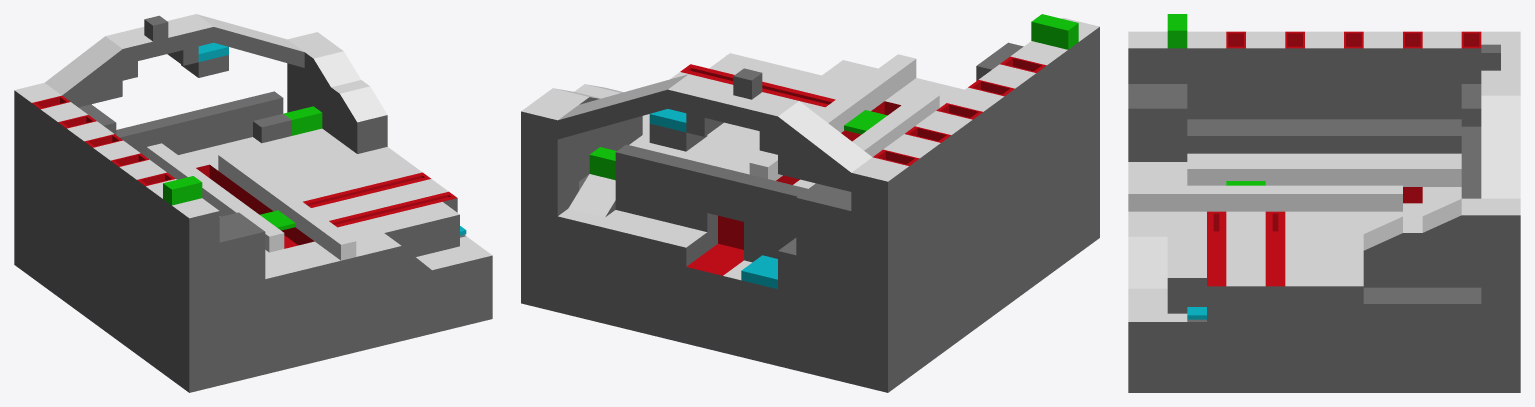
Rendered from Nivel1_v3.fbx.
3 views of the same model, side by side, from view 1: azimuth 30°, elevation 25°; view 2: azimuth 150°, elevation 25°; view 3: azimuth 270°, elevation 25° (orthographic). The views are drawn at different scales.
Visible parts, largest first — view 1: Base, Pared final, Modulo movil 1, Pivotes electricos 2, Inicio, Pared2, Pivotes electricos 1, Modulo movil 2, Pared1, Puerta 2, Pared3, Puerta 1 (+2 smaller); view 2: Base, Pared final, Pared2, Horno, Pivotes electricos 2, Pared1, Modulo movil 2, Modulo movil 1, Pivotes electricos 1, Puerta 2, Boton 2, Puerta 1 (+3 smaller); view 3: Base, Pared final, Cinta transportadora, Modulo movil 1, Pivotes electricos 2, Pivotes electricos 1, Inicio, Modulo movil 2, Horno, Pared1, Puerta 2, Pared2.
Boxes of the visible parts, x1=… form: Base: x1=14, y1=14, x2=492, y2=392; Pared final: x1=14, y1=29, x2=219, y2=297; Modulo movil 1: x1=304, y1=45, x2=387, y2=153; Pivotes electricos 2: x1=218, y1=151, x2=356, y2=260; Inicio: x1=204, y1=212, x2=265, y2=293; Pared2: x1=184, y1=91, x2=283, y2=151; Pivotes electricos 1: x1=146, y1=143, x2=284, y2=252; Modulo movil 2: x1=136, y1=15, x2=228, y2=77; Pared1: x1=116, y1=113, x2=192, y2=156; Puerta 2: x1=163, y1=176, x2=202, y2=205; Pared3: x1=253, y1=114, x2=291, y2=143; Puerta 1: x1=283, y1=106, x2=322, y2=135; Base: x1=521, y1=53, x2=1099, y2=392; Pared final: x1=741, y1=17, x2=1099, y2=277; Pared2: x1=615, y1=144, x2=735, y2=217; Horno: x1=796, y1=183, x2=869, y2=272; Pivotes electricos 2: x1=749, y1=54, x2=916, y2=180; Pared1: x1=725, y1=171, x2=807, y2=234; Modulo movil 2: x1=649, y1=68, x2=762, y2=151; Modulo movil 1: x1=542, y1=84, x2=642, y2=181; Pivotes electricos 1: x1=793, y1=91, x2=939, y2=188; Puerta 2: x1=1031, y1=14, x2=1078, y2=49; Boton 2: x1=741, y1=255, x2=777, y2=289; Puerta 1: x1=589, y1=147, x2=616, y2=180; Base: x1=1128, y1=79, x2=1520, y2=392; Pared final: x1=1128, y1=31, x2=1520, y2=119; Cinta transportadora: x1=1187, y1=119, x2=1461, y2=153; Modulo movil 1: x1=1363, y1=198, x2=1481, y2=286; Pivotes electricos 2: x1=1128, y1=185, x2=1402, y2=211; Pivotes electricos 1: x1=1187, y1=161, x2=1461, y2=186; Inicio: x1=1128, y1=84, x2=1187, y2=161; Modulo movil 2: x1=1481, y1=44, x2=1520, y2=78; Horno: x1=1461, y1=84, x2=1481, y2=126; Pared1: x1=1461, y1=126, x2=1481, y2=167; Puerta 2: x1=1167, y1=14, x2=1187, y2=48; Pared2: x1=1461, y1=168, x2=1481, y2=198.
Size of the model in its own units: 2000 by 1400 by 2000.
